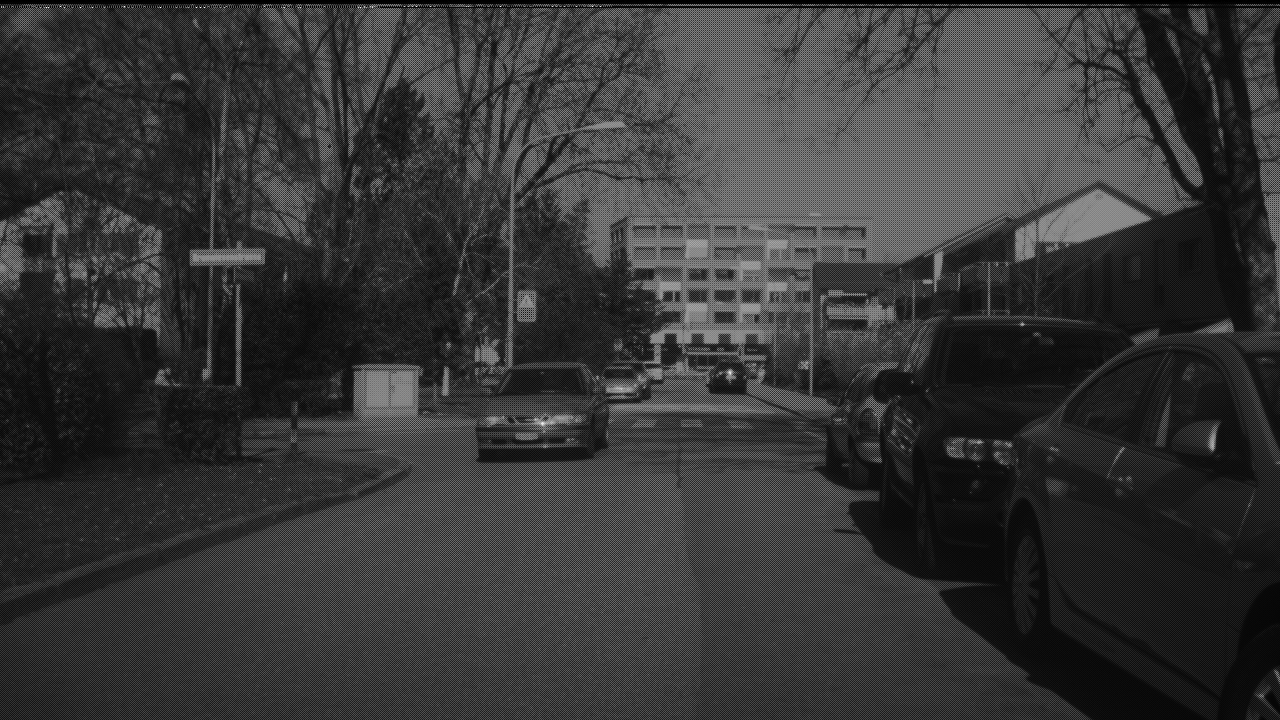pole: (207, 115, 216, 377), (506, 153, 516, 362), (807, 234, 814, 387)
